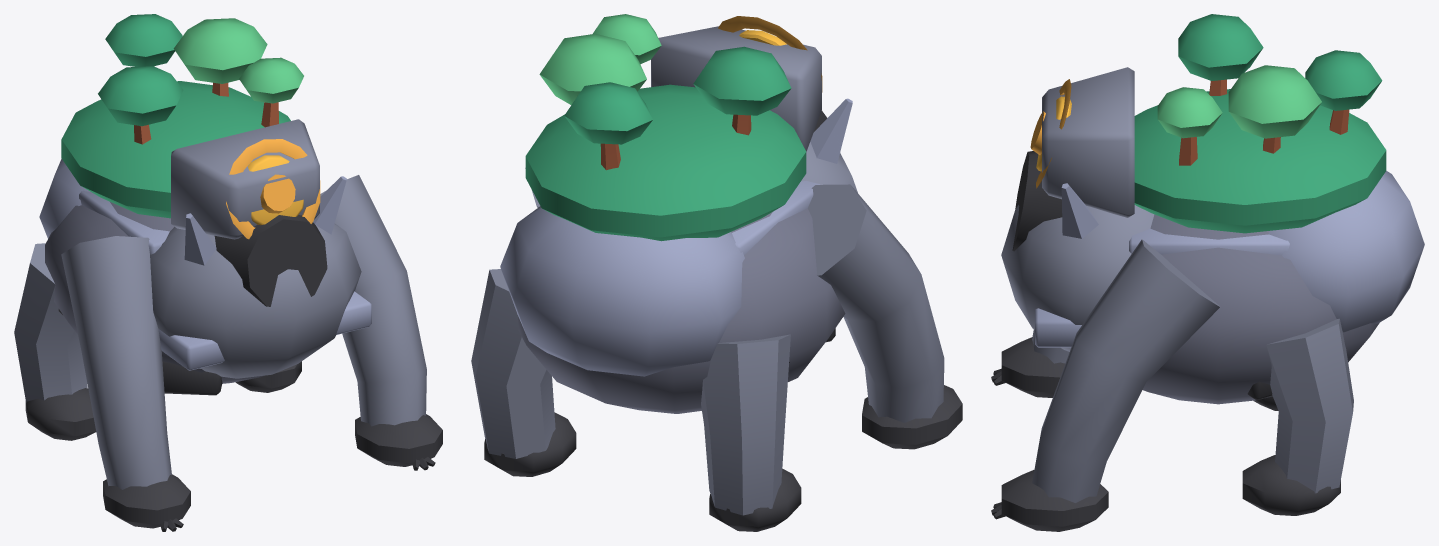
File: grove_bear.glb
3 renders of one model, left to right at view 1: azimuth 30°, elevation 25°; view 2: azimuth 150°, elevation 25°; view 3: azimuth 270°, elevation 25°, orthographic. The views are drawn at different scales.
Parts seen in each view (by area): view 1: GroveBear; view 2: GroveBear; view 3: GroveBear.
Boxes of the visible parts, x1,y1,x2,y2 form: GroveBear: [14, 14, 442, 531]; GroveBear: [471, 14, 962, 531]; GroveBear: [991, 14, 1424, 531].
Bounding box in the file's own units: 3.58 × 4 × 3.81.
Materials: 1 (1 with a texture image).
